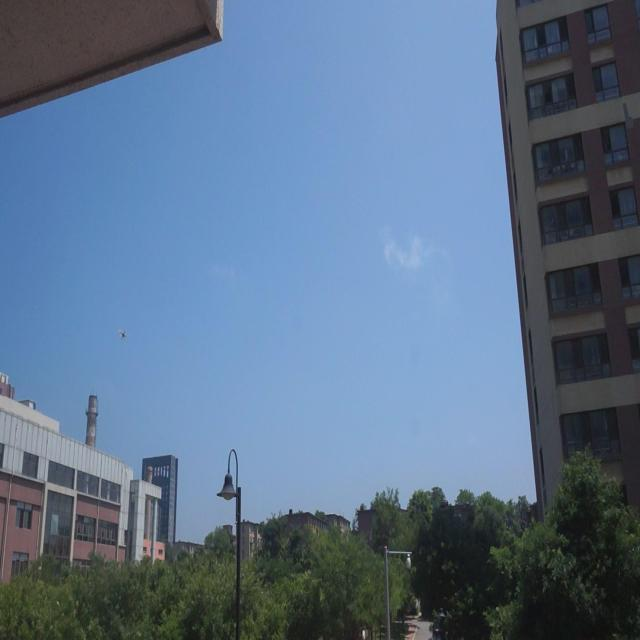drone: (118, 325, 128, 343)
